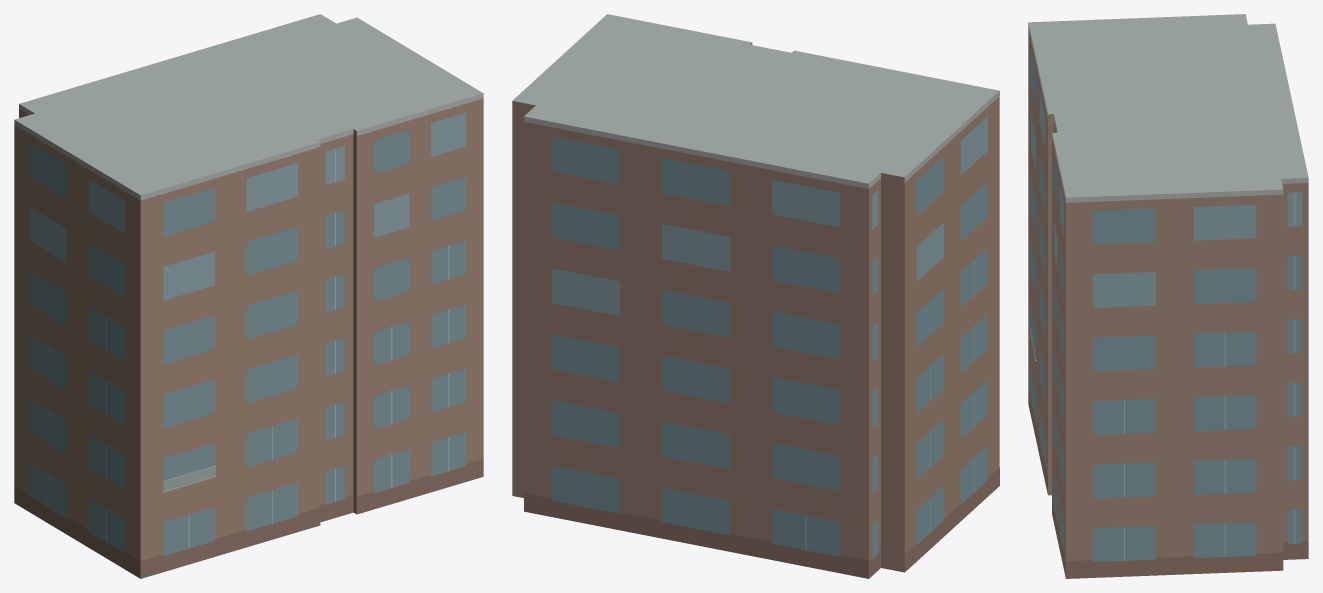
File: survey-upis-32759620.glb
3 views of the same model, side by side, from view 1: azimuth 30°, elevation 25°; view 2: azimuth 150°, elevation 25°; view 3: azimuth 270°, elevation 25° (orthographic). The views are drawn at different scales.
Visible parts, largest first — view 1: survey-upis-32759620.tmp; view 2: survey-upis-32759620.tmp; view 3: survey-upis-32759620.tmp.
Boxes of the visible parts, <box> form: survey-upis-32759620.tmp: <box>14,14,483,578</box>; survey-upis-32759620.tmp: <box>512,14,999,578</box>; survey-upis-32759620.tmp: <box>1028,14,1308,578</box>.
Size of the model in its own units: 18.94 by 18.3 by 12.21.
